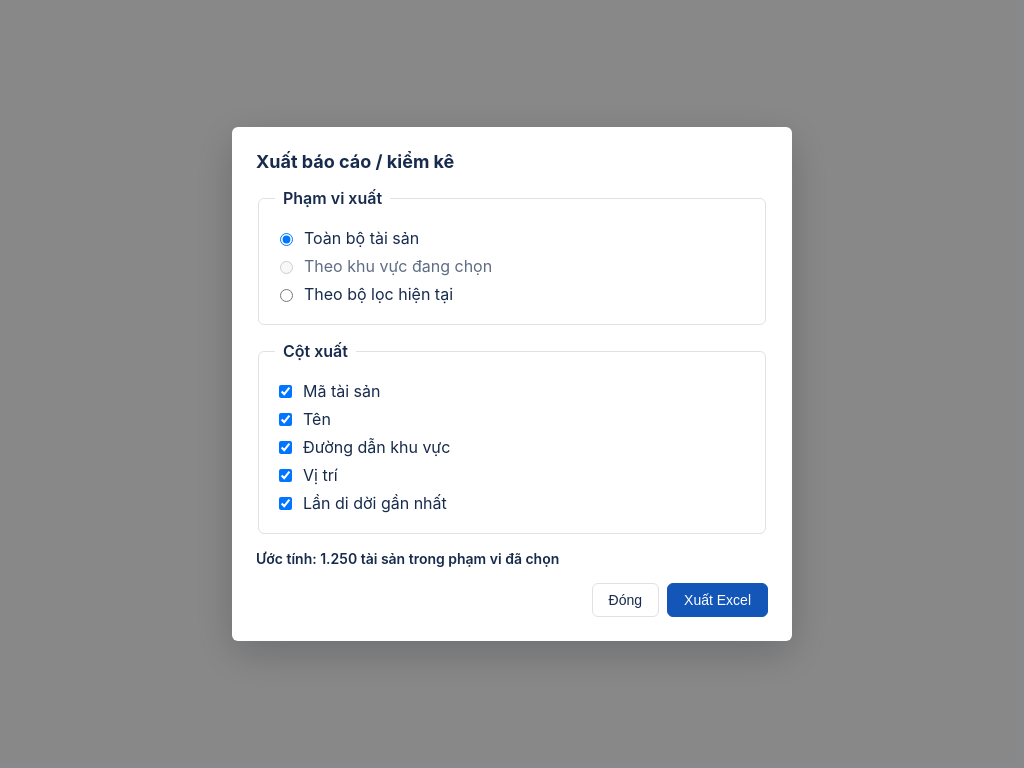
Test case: XuatBaoCaoModal — S08 › TC-S08-23: xuất toàn bộ → tải file + toast 'Đã xuất 1.250 tài sản'
This screenshot has width=1024, height=768.
Click the button "Xuất Excel".
click(718, 600)  # box [667,583,768,617]
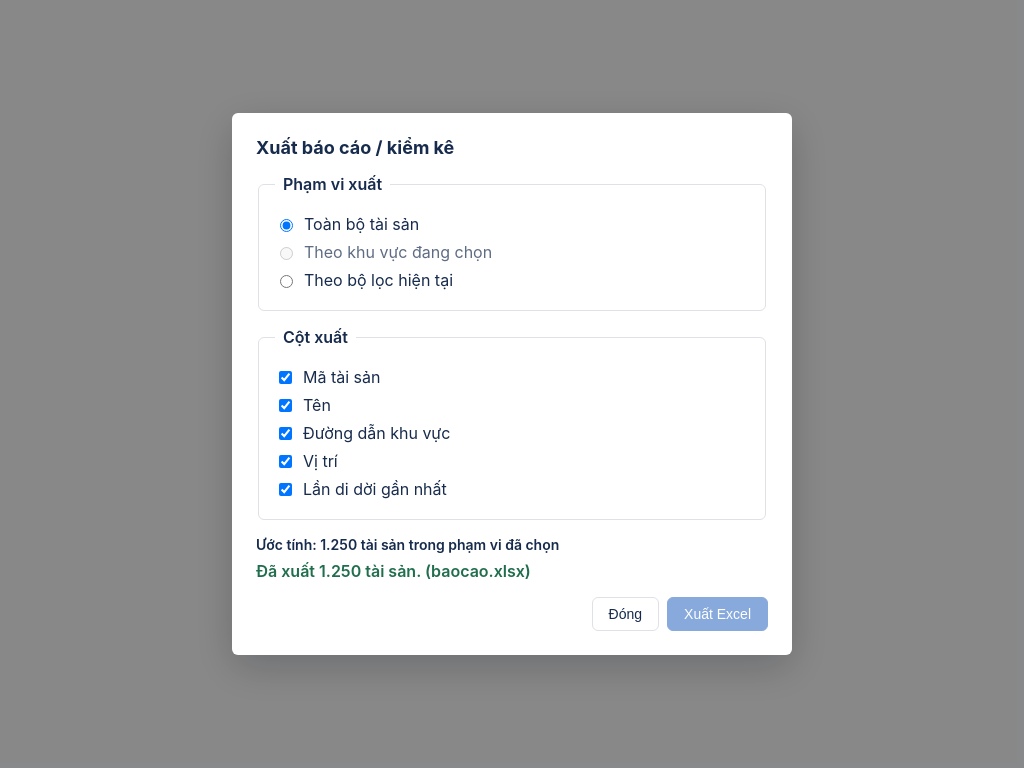
Result: the text "Đã xuất 1.250 tài sản. (baocao.xlsx)" is shown at [256,561,531,581]
